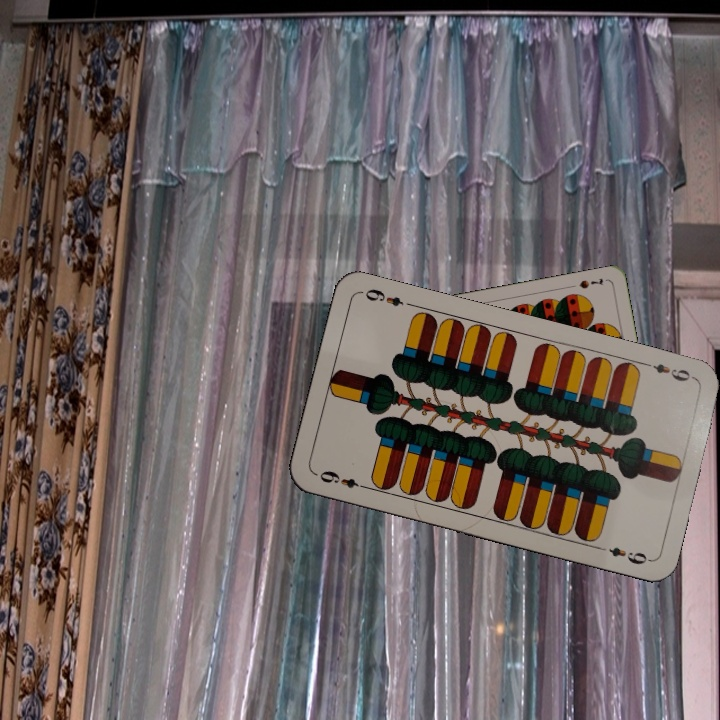E9: (312, 466, 370, 492), (640, 358, 698, 384)
S7: (575, 274, 605, 291)
